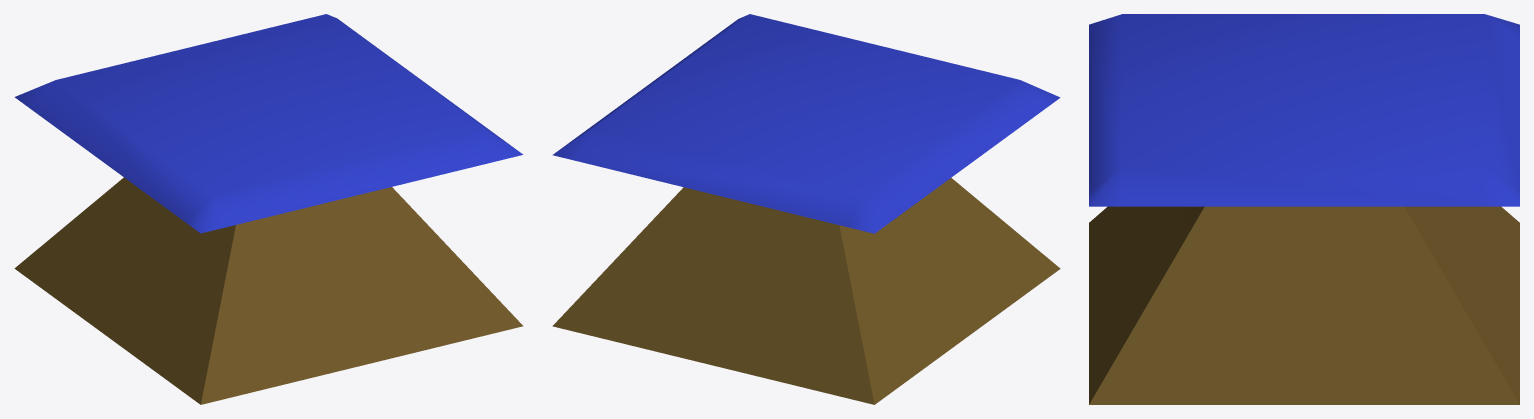
File: LeftPlatform.fbx
3 renders of one model, left to right at view 1: azimuth 30°, elevation 25°; view 2: azimuth 150°, elevation 25°; view 3: azimuth 270°, elevation 25°, orthographic. The views are drawn at different scales.
Parts seen in each view (by area): view 1: pCube2; view 2: pCube2; view 3: pCube2.
Boxes of the visible parts, <box> form: pCube2: <box>14,14,523,404</box>; pCube2: <box>552,14,1060,404</box>; pCube2: <box>1089,14,1519,404</box>.
Bounding box in the file's own units: 3.26 × 1.86 × 3.26.
